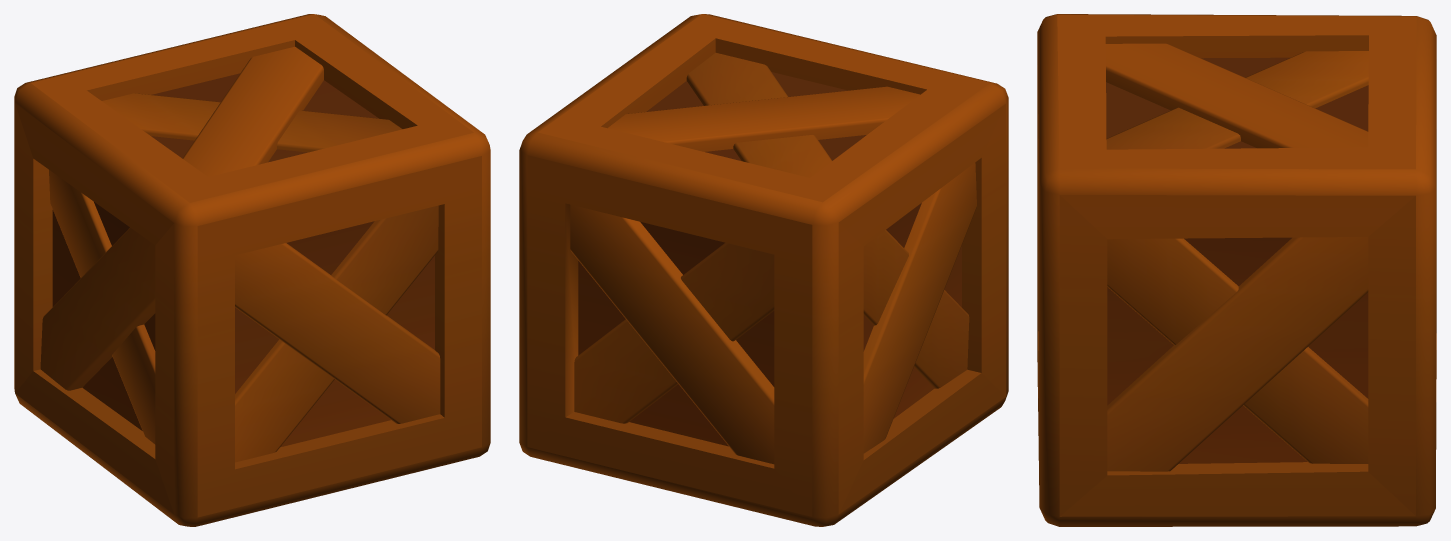
Rendered from Crate.fbx.
3 views of the same model, side by side, from view 1: azimuth 30°, elevation 25°; view 2: azimuth 150°, elevation 25°; view 3: azimuth 270°, elevation 25° (orthographic). The views are drawn at different scales.
Visible parts, largest first — view 1: XWoodCrate; view 2: XWoodCrate; view 3: XWoodCrate.
Part boxes in pixels (x1,y1,x2,y2): XWoodCrate: (14,14,490,526); XWoodCrate: (519,14,1008,526); XWoodCrate: (1037,14,1436,526).
Size of the model in its own units: 300 by 291 by 294.
